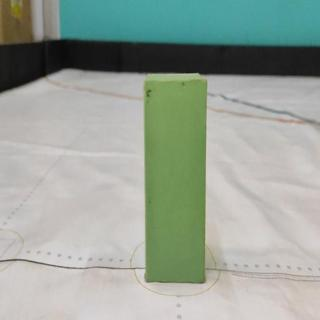greenbox: (143, 74, 205, 284)
